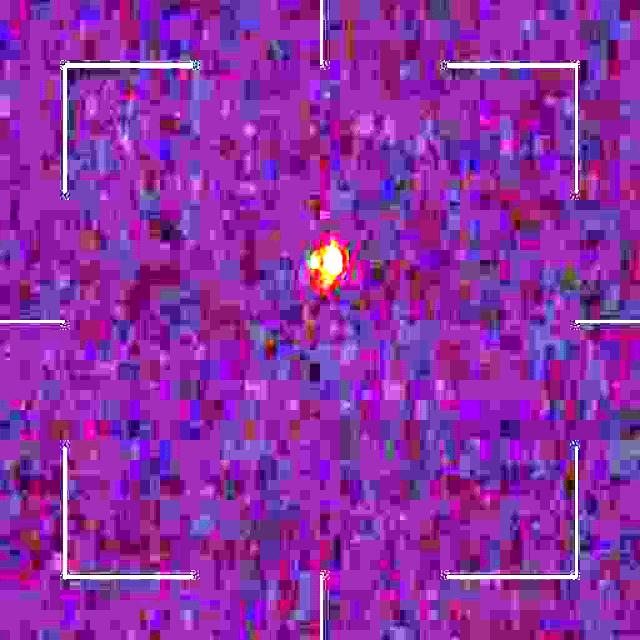bird: (311, 241, 345, 291)
